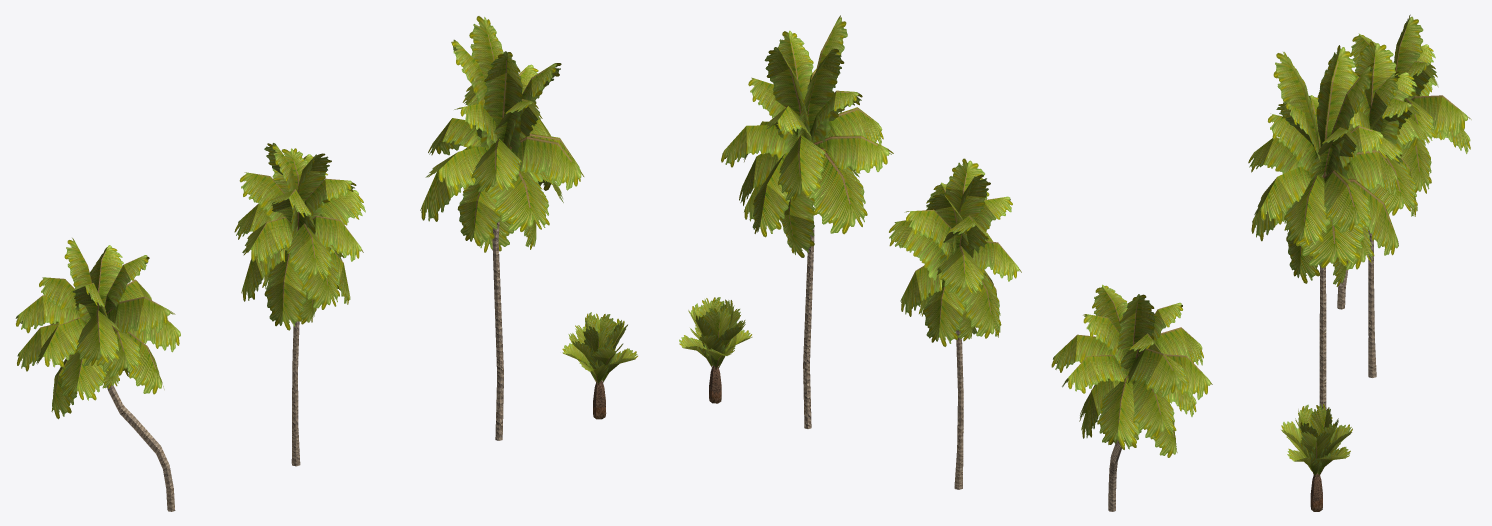
File: Tree Shapes.FBX
The picture shows the model from 3 angles, left to right: view 1: azimuth 30°, elevation 25°; view 2: azimuth 150°, elevation 25°; view 3: azimuth 270°, elevation 25°; orthographic projection.
Parts seen in each view (by area): view 1: Object001, Object003, Object002, Object004; view 2: Object001, Object003, Object002, Object004; view 3: Object001, Object002, Object003, Object004.
Boxes of the visible parts, x1=… form: Object001: x1=420, y1=16, x2=584, y2=440; Object003: x1=15, y1=238, x2=180, y2=511; Object002: x1=234, y1=143, x2=365, y2=466; Object004: x1=562, y1=312, x2=637, y2=419; Object001: x1=721, y1=15, x2=893, y2=428; Object003: x1=1051, y1=284, x2=1212, y2=511; Object002: x1=889, y1=158, x2=1021, y2=489; Object004: x1=679, y1=297, x2=752, y2=403; Object001: x1=1248, y1=45, x2=1398, y2=410; Object002: x1=1348, y1=41, x2=1428, y2=377; Object003: x1=1317, y1=14, x2=1471, y2=309; Object004: x1=1281, y1=404, x2=1352, y2=511.
Size of the model in its own units: 725 by 497 by 261.
Materials: 1 (1 with a texture image).
